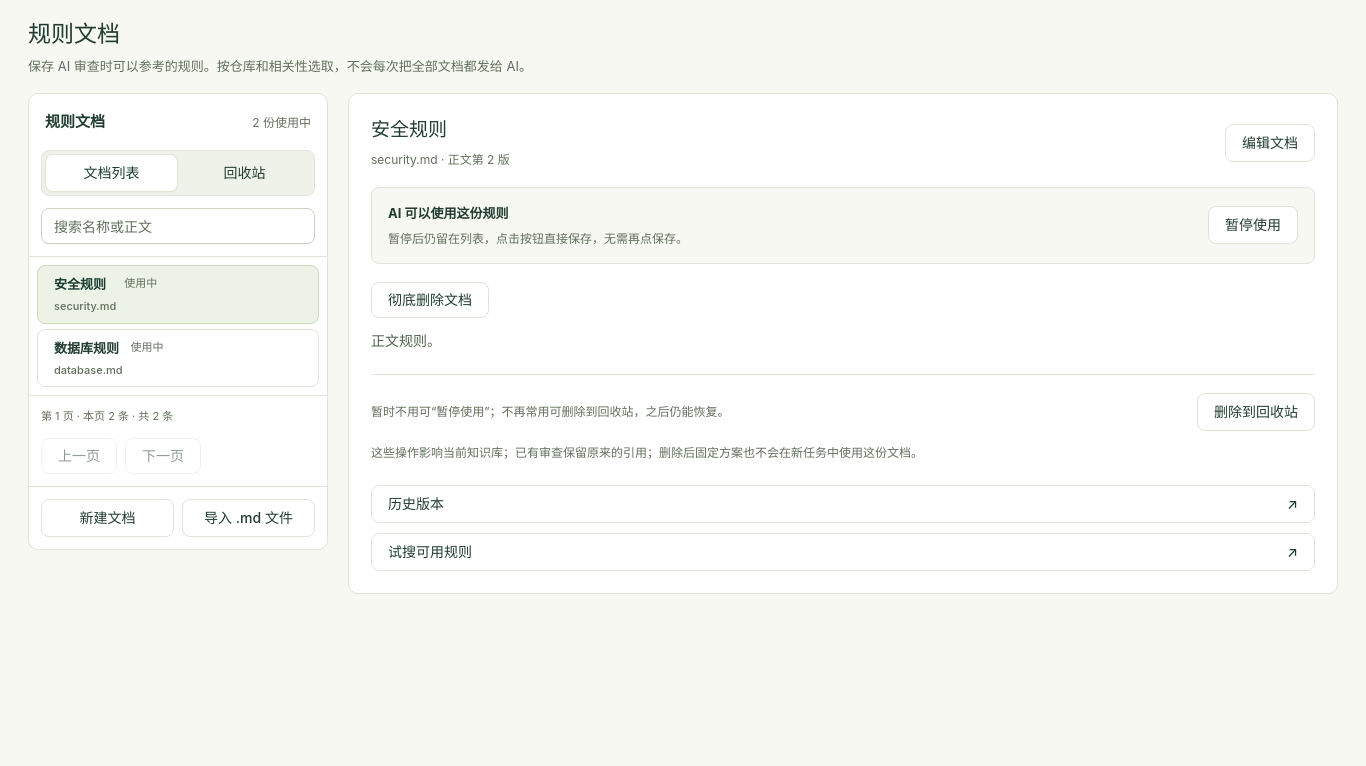
仅修改仓库范围也能保存，冲突时保留未保存的编辑
Check: the button "暂停使用" is shown, box top-left (1208, 206), bottom-right (1298, 244)
Check: the button "删除到回收站" is enabled, box top-left (1197, 393), bottom-right (1315, 431)
Click the button "编辑文档" at (1270, 143), box top-left (1225, 124), bottom-right (1315, 162)
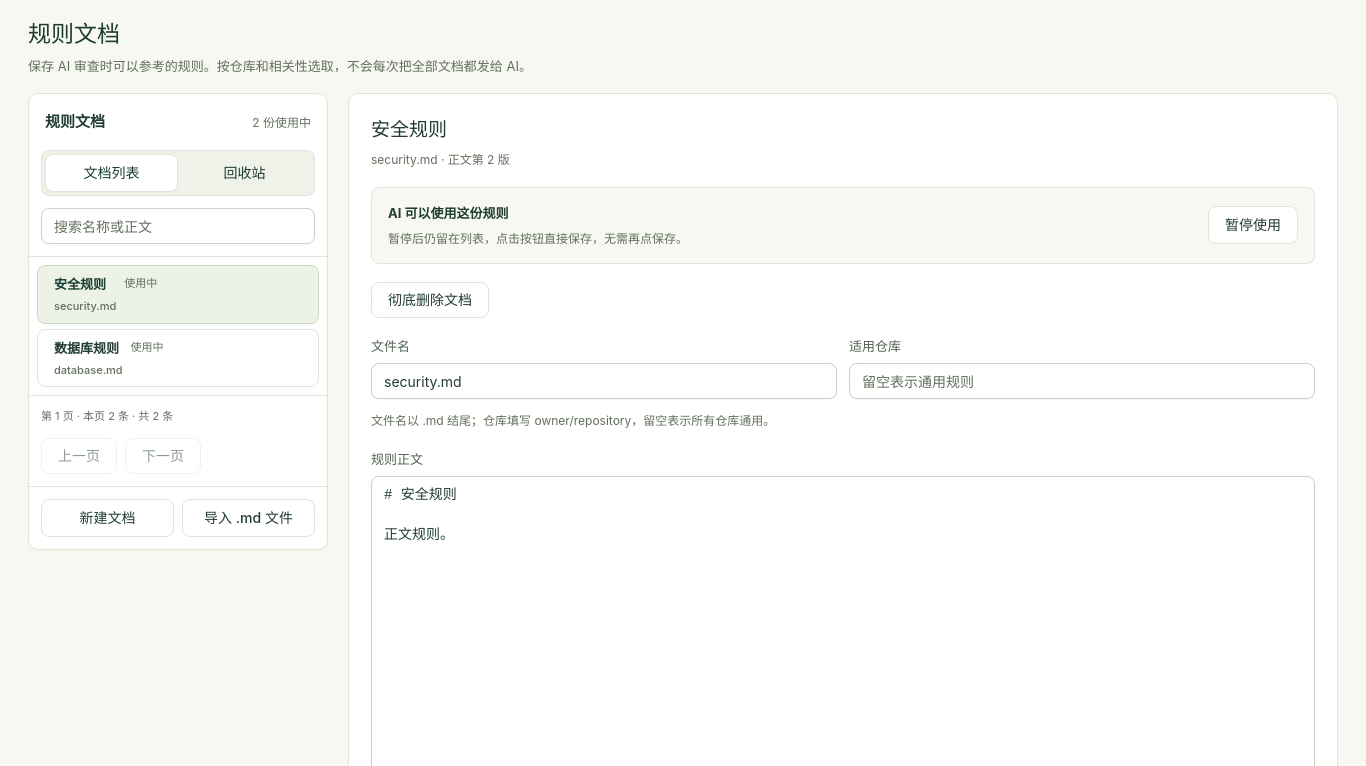
Type "lboverfys/NiuMa" into the field labelled "适用仓库" at (1082, 381), box top-left (849, 363), bottom-right (1315, 399)
(page scrolled)
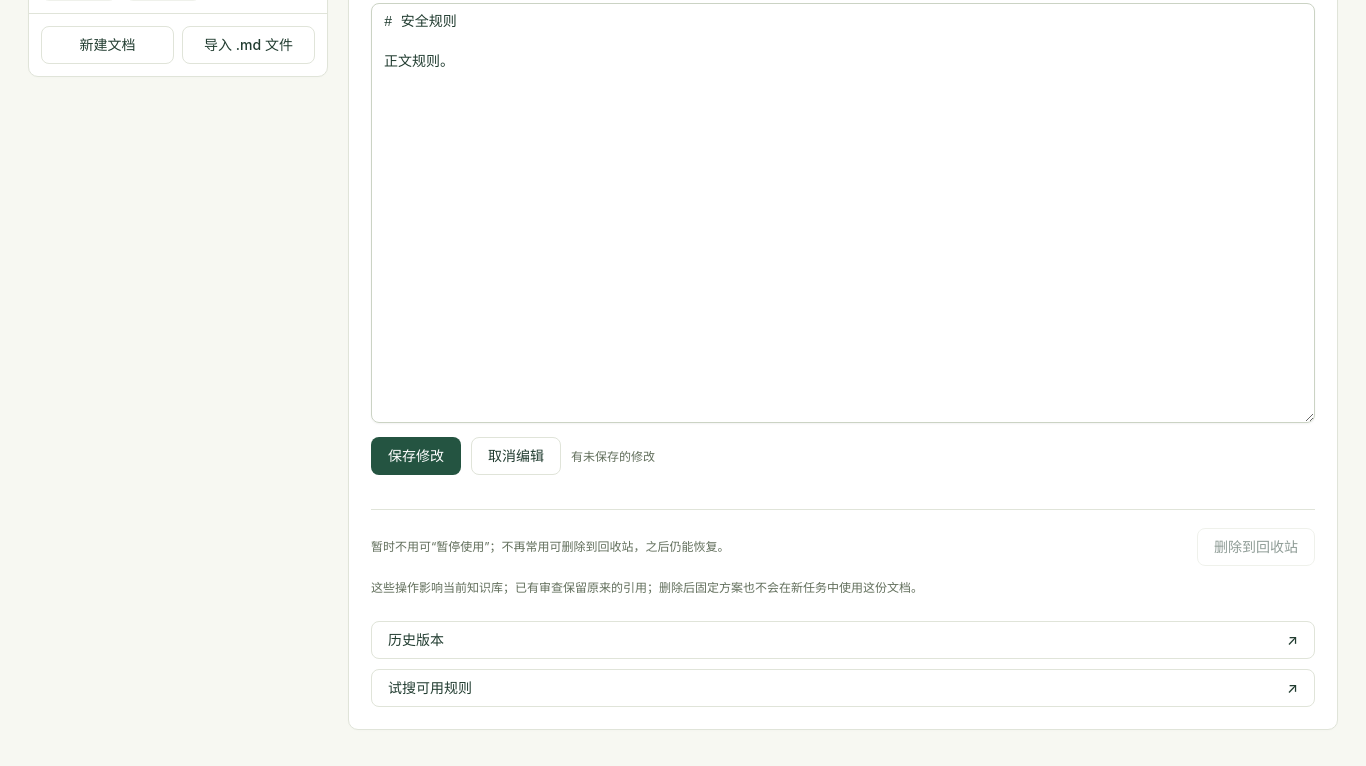
Check: the button "保存修改" is enabled
Click the button "保存修改" at (416, 456), box top-left (371, 437), bottom-right (461, 475)
(page scrolled)
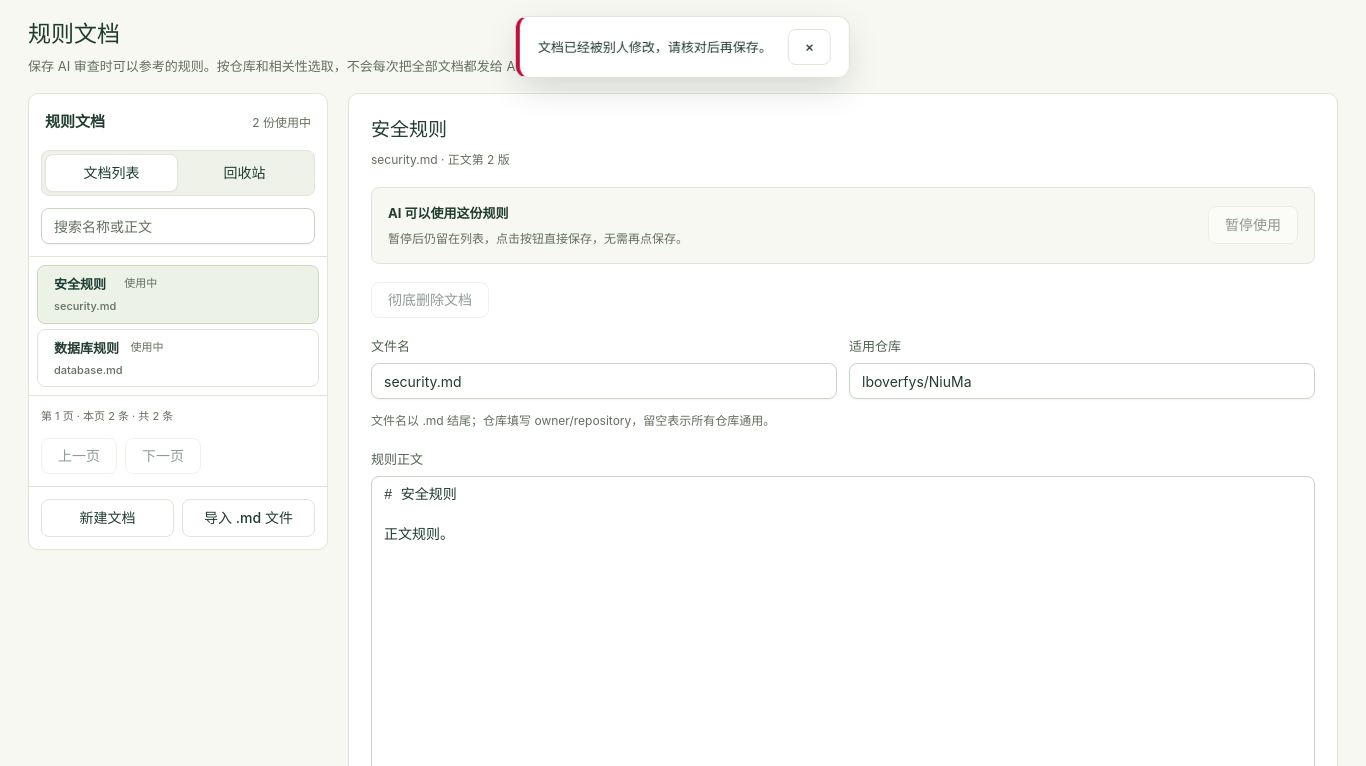
Check: the message "文档已经被别人修改，请核对后再保存。 ×" is shown, box top-left (516, 16), bottom-right (850, 78)
